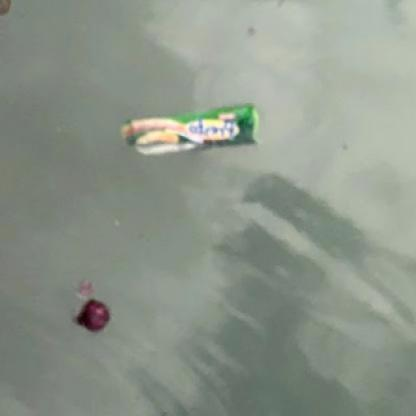Trash: (123, 100, 264, 159)
